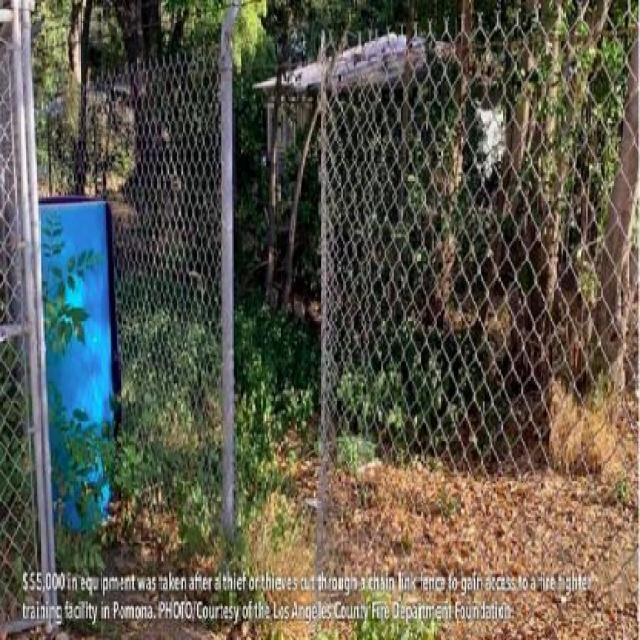fence line: (226, 54, 326, 586)
